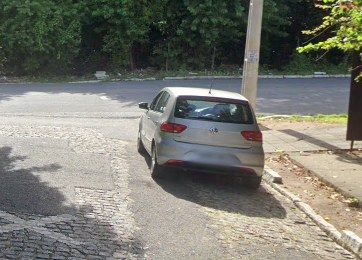car: (134, 74, 269, 197)
